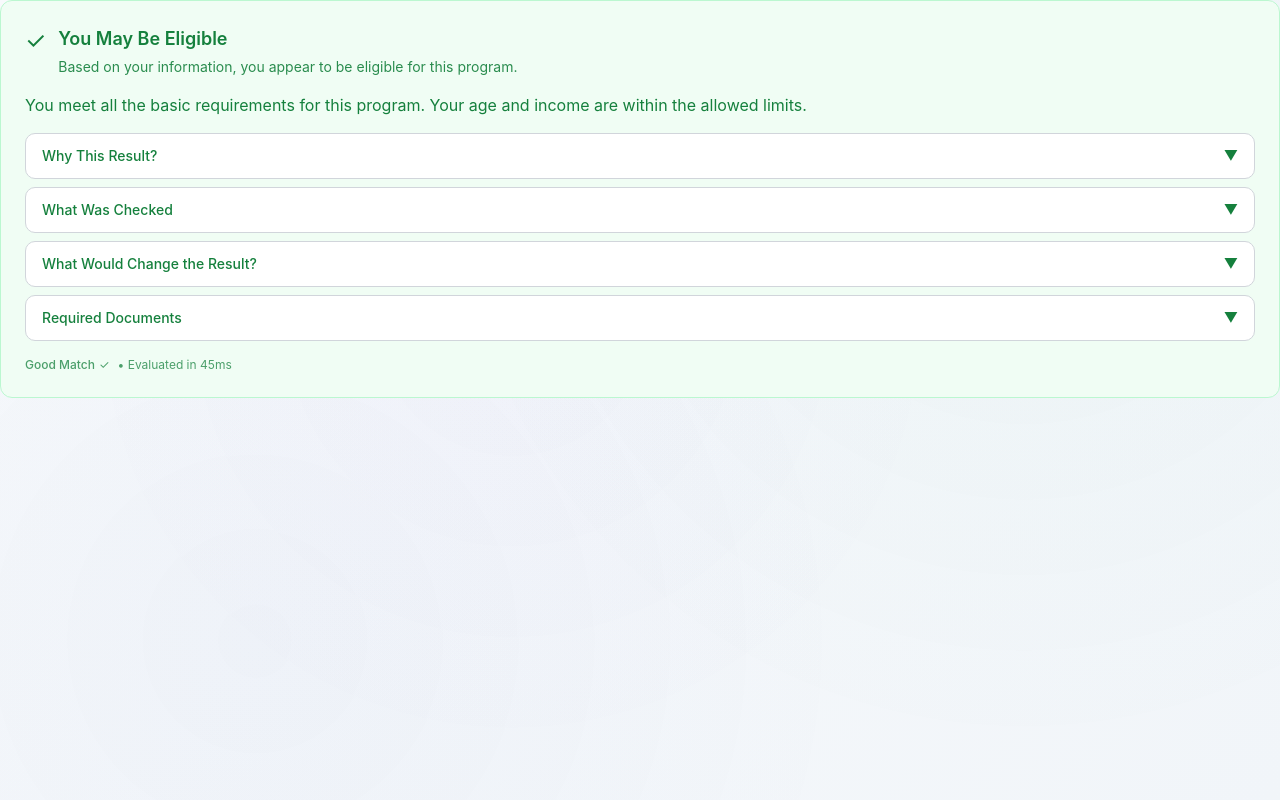
it: EligibilityResultExplanation › Accordion Functionality › renders required documents section when available
# Click to expand the required documents section
Click the text "Required Documents": (112, 318) [42, 308, 182, 328]
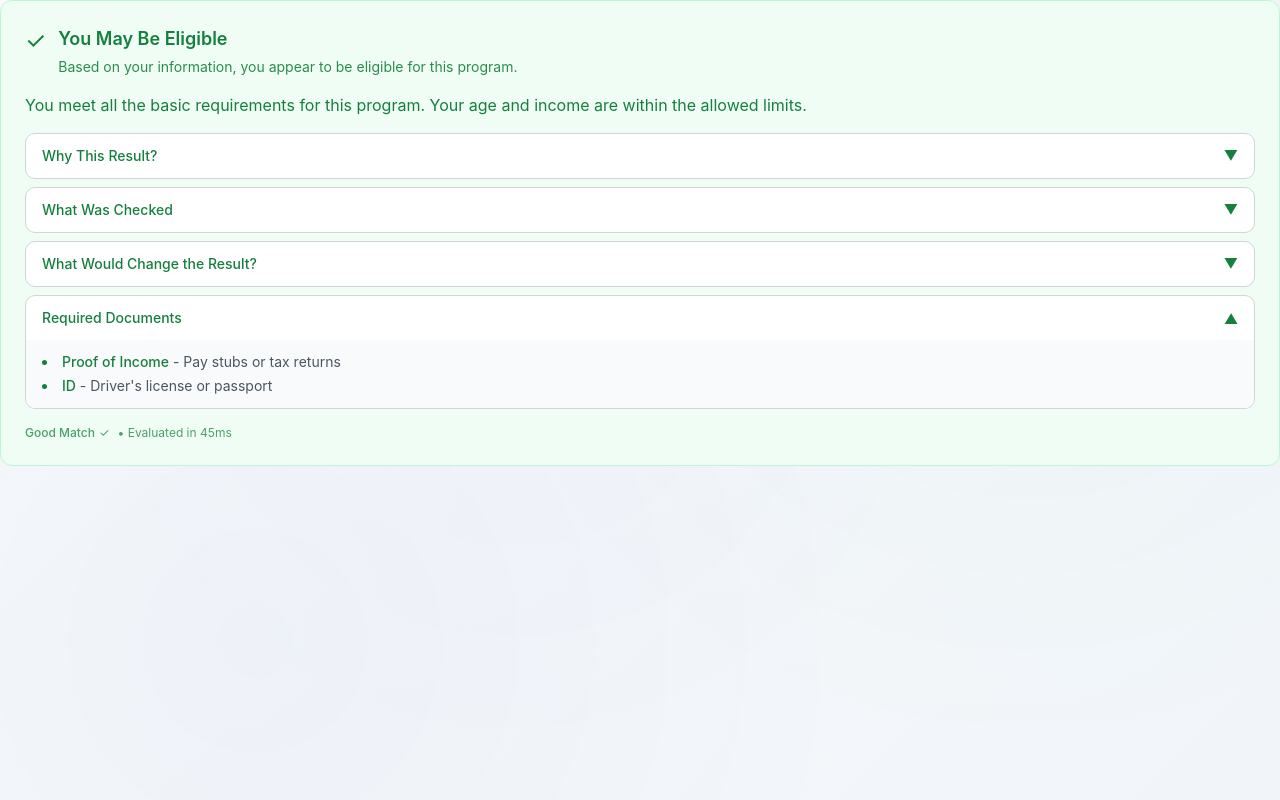
Expected: the text "Proof of Income" is shown, [62, 353, 169, 370]
Expected: the text "- Pay stubs or tax returns" is shown, [169, 353, 341, 370]
